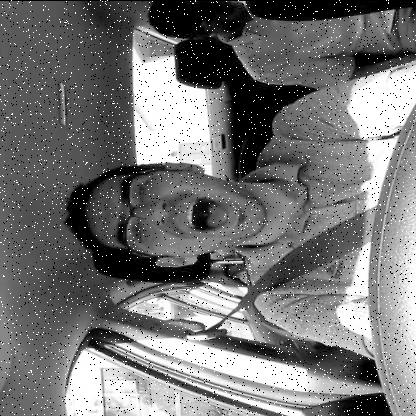seatbelt: (53, 142, 380, 322)
